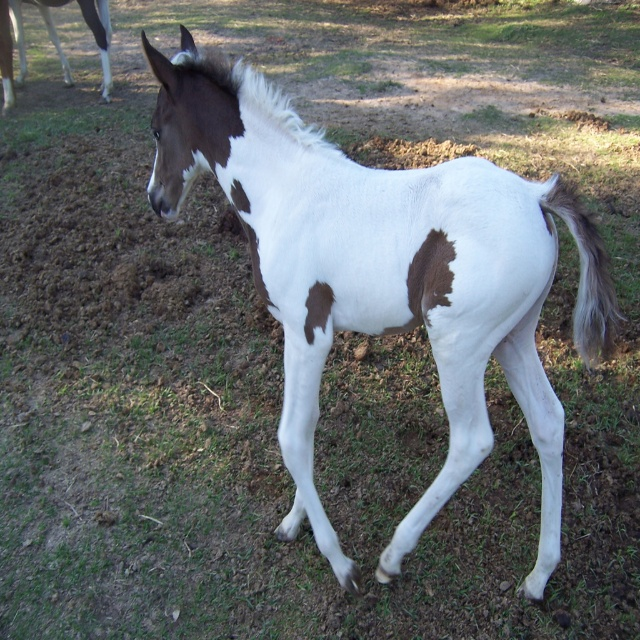Horse: (141, 23, 629, 606), (0, 0, 116, 106)
